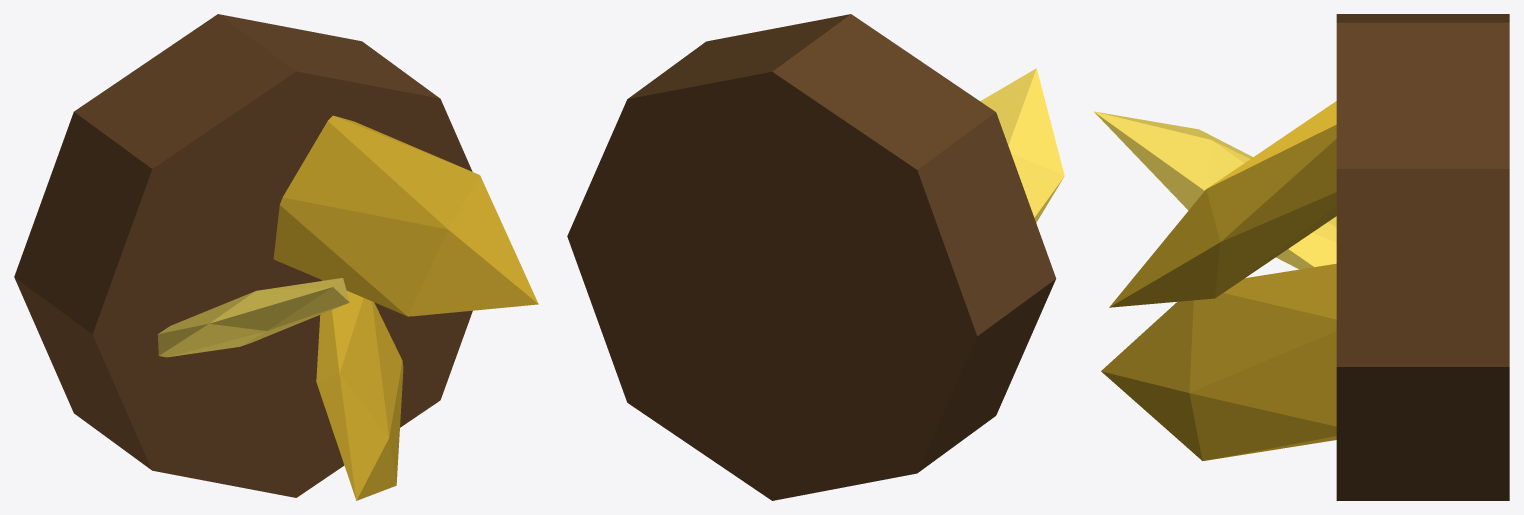
Rendered from 1_seedling.obj.
The picture shows the model from 3 angles, left to right: view 1: azimuth 30°, elevation 25°; view 2: azimuth 150°, elevation 25°; view 3: azimuth 270°, elevation 25°; orthographic projection. The views are drawn at different scales.
Parts seen in each view (by area): view 1: torstol_1_seedling; view 2: torstol_1_seedling; view 3: torstol_1_seedling.
Boxes of the visible parts, <box> form: torstol_1_seedling: <box>14,14,538,500</box>; torstol_1_seedling: <box>567,14,1064,500</box>; torstol_1_seedling: <box>1094,14,1509,500</box>.
Bounding box in the file's own units: 0.12 × 0.12 × 0.0963.
